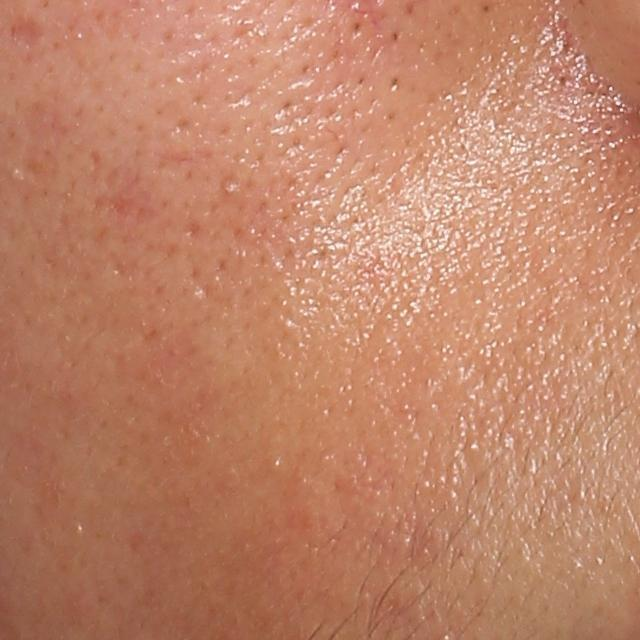atrophic_scar: (11, 15, 46, 49)
